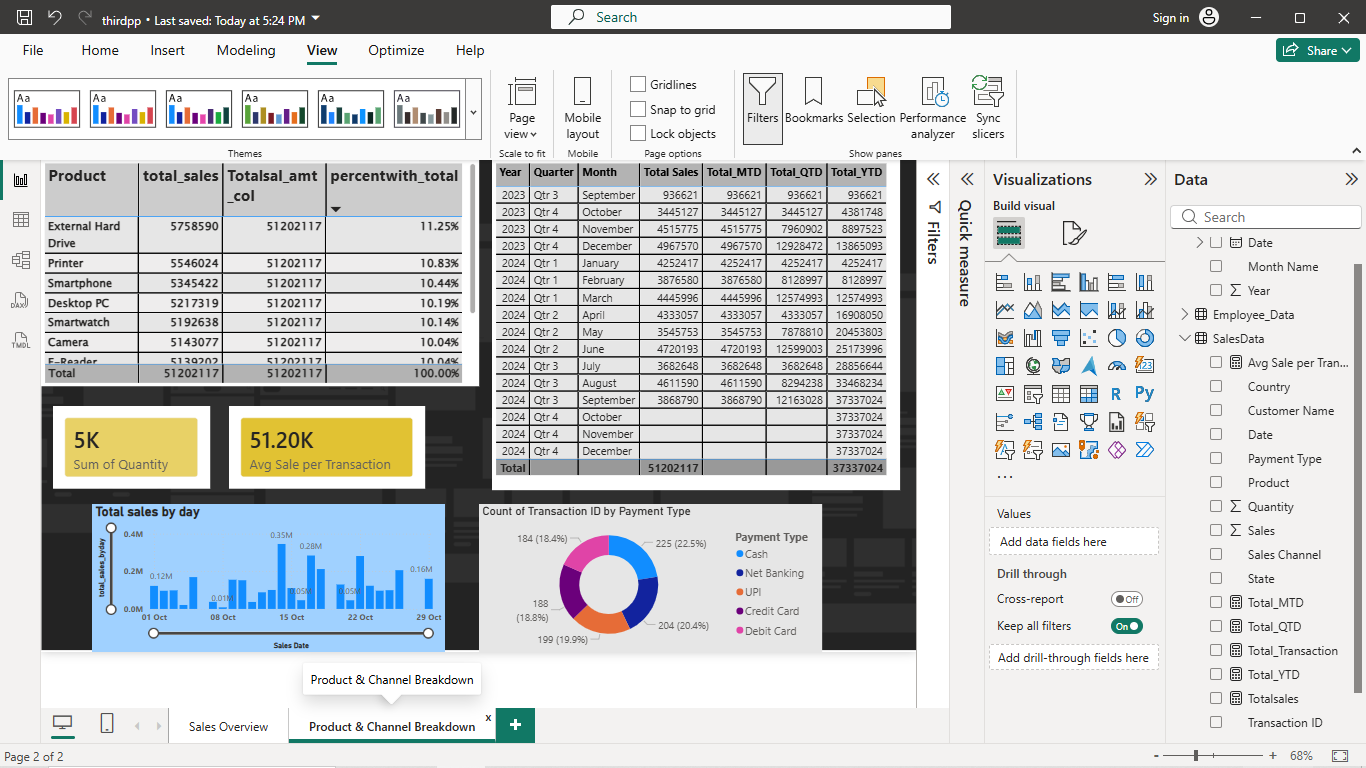

The page's visual inventory and layout, read from the dashboard file:
{"tool":"powerbi","page":{"name":"Product & Channel Breakdown","canvas":[1280,720],"ordinal":1},"visuals":[{"type":"clusteredColumnChart","title":"Total sales by day","fields":{"Y":["TechyStore Sales_Data.total_sales_byday"],"Category":["TechyStore Sales_Data.Sales Date"]},"box":[74.6,503.2,516.4,216.5],"z":2000},{"type":"actionButton","box":[0,0,100,40],"z":4000},{"type":"donutChart","fields":{"Category":["SalesData.Payment Type"],"Y":["CountNonNull(SalesData.Transaction ID)"]},"box":[640.7,503.2,501.8,216.5],"z":4001},{"type":"cardVisual","fields":{"Data":["SalesData.Avg Sale per Transaction"]},"box":[275,359.9,286.7,121.4],"z":4002},{"type":"cardVisual","fields":{"Data":["Sum(SalesData.Quantity)"]},"box":[17.6,359.9,229.7,121.4],"z":4003},{"type":"tableEx","fields":{"Values":["Custom_calender.Date.Variation.Date Hierarchy.Year","Custom_calender.Date.Variation.Date Hierarchy.Quarter","Custom_calender.Date.Variation.Date Hierarchy.Month","SalesData.Totalsales","SalesData.Total_MTD","SalesData.Total_QTD","SalesData.Total_YTD"]},"box":[659.7,0,596.8,482.7],"z":4005},{"type":"tableEx","fields":{"Values":["TechyStore Sales_Data.Product","TechyStore Sales_Data.total_sales","TechyStore Sales_Data.Total_salers_amount_percentage","TechyStore Sales_Data.percentwith_total"]},"box":[0,0,640.7,330.6],"z":4006}]}

Visuals, with their boxes on the page's 1280x720 design canvas (x1, y1, x2, y2). These are canvas units, not pixel positions in the 1366x768 screenshot, which may show the page scaled, cropped or inside an application window:
"Total sales by day" clusteredColumnChart: detection(75, 503, 591, 720)
actionButton: detection(0, 0, 100, 40)
donutChart - SalesData.Payment Type x CountNonNull(SalesData.Transaction ID): detection(641, 503, 1142, 720)
cardVisual - SalesData.Avg Sale per Transaction: detection(275, 360, 562, 481)
cardVisual - Sum(SalesData.Quantity): detection(18, 360, 247, 481)
tableEx - Custom_calender.Date.Variation.Date Hierarchy.Year x Custom_calender.Date.Variation.Date Hierarchy.Quarter: detection(660, 0, 1256, 483)
tableEx - TechyStore Sales_Data.Product x TechyStore Sales_Data.total_sales: detection(0, 0, 641, 331)
